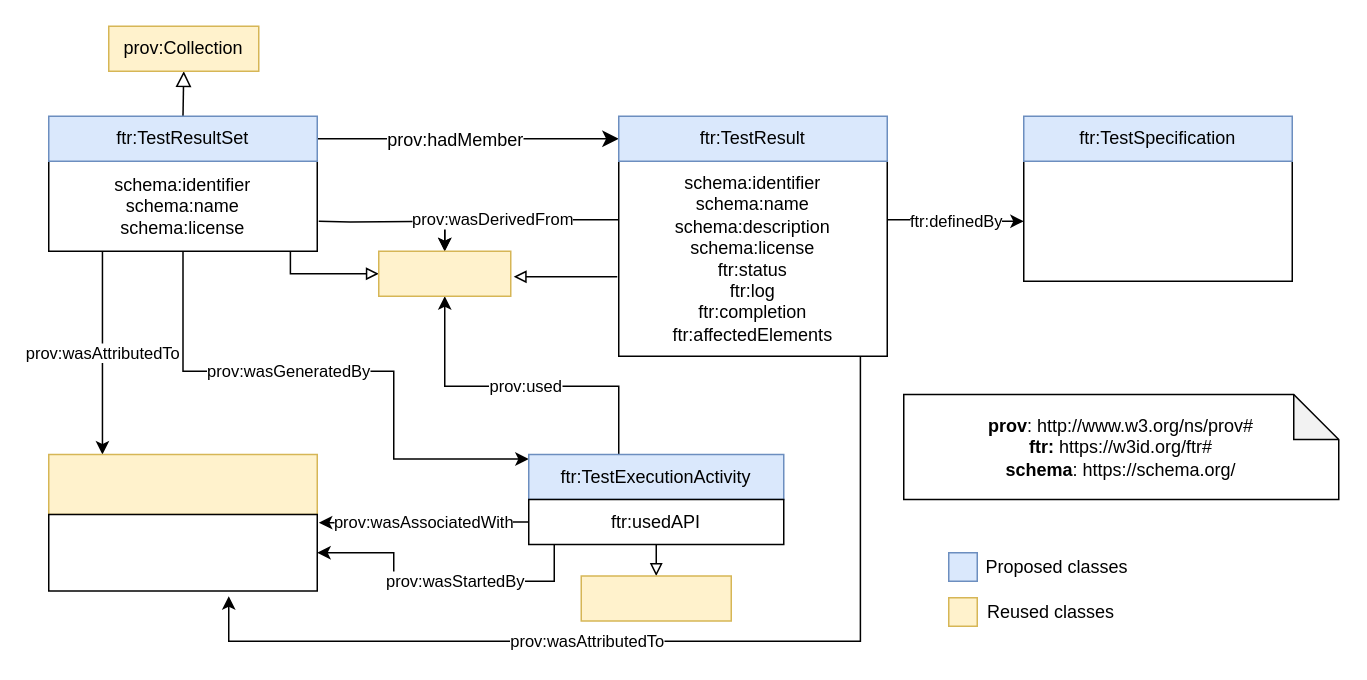
Image size: 1367x680. Some labels were removed from this diagram. The shapes that lost their labels are listed below. From the top down, each one's centre as x and y in pixels, then its label:
At pixel 1157 220: "schema:identifier schema:name schema:description schema:version schema:author".
At pixel 444 273: "prov:Entity".
At pixel 182 483: "schema:SoftwareApplication prov:SoftwareAgent".
At pixel 182 552: "schema:softwareVersion schema:url schema:contactPoint".
At pixel 655 597: "prov:Activity".
